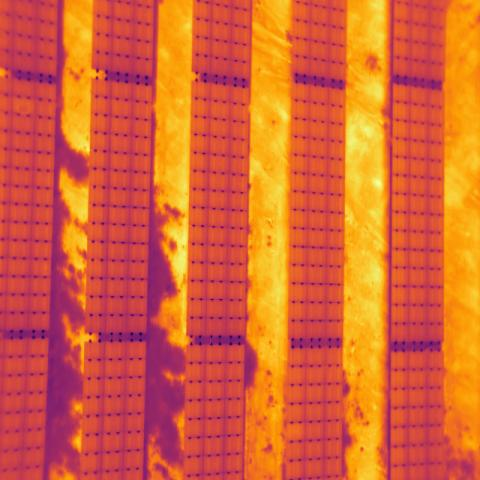fault: (286, 422, 304, 441)
